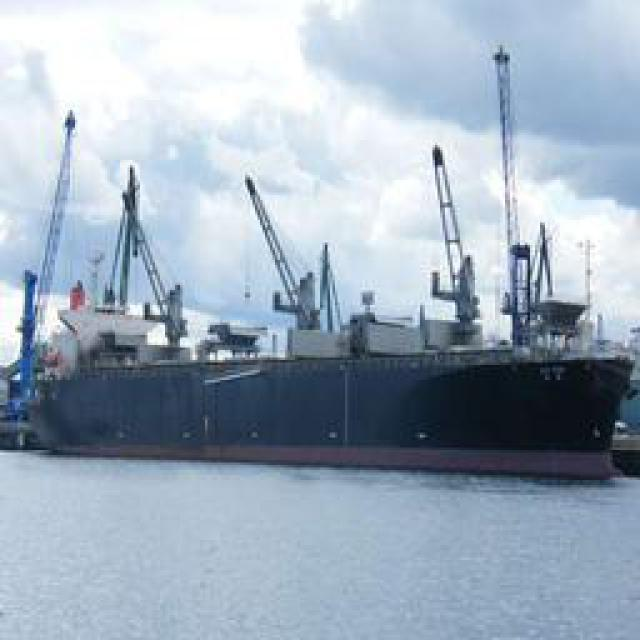Ship: (25, 139, 640, 472)
